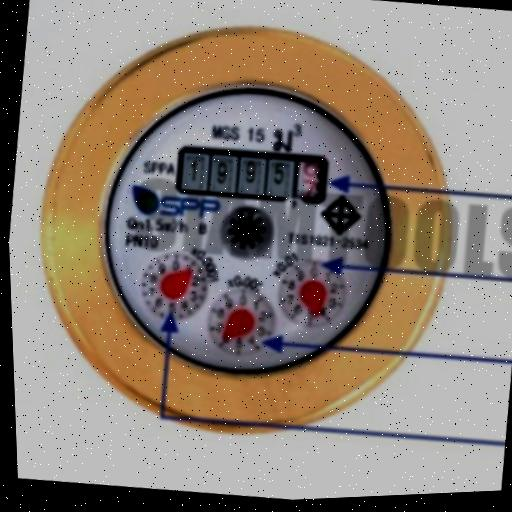1: (182, 155, 204, 191)
5: (268, 162, 290, 197)
6: (297, 160, 321, 200)
9: (211, 157, 233, 192), (241, 158, 262, 194)
border_water_meter_number: (173, 138, 332, 213)
